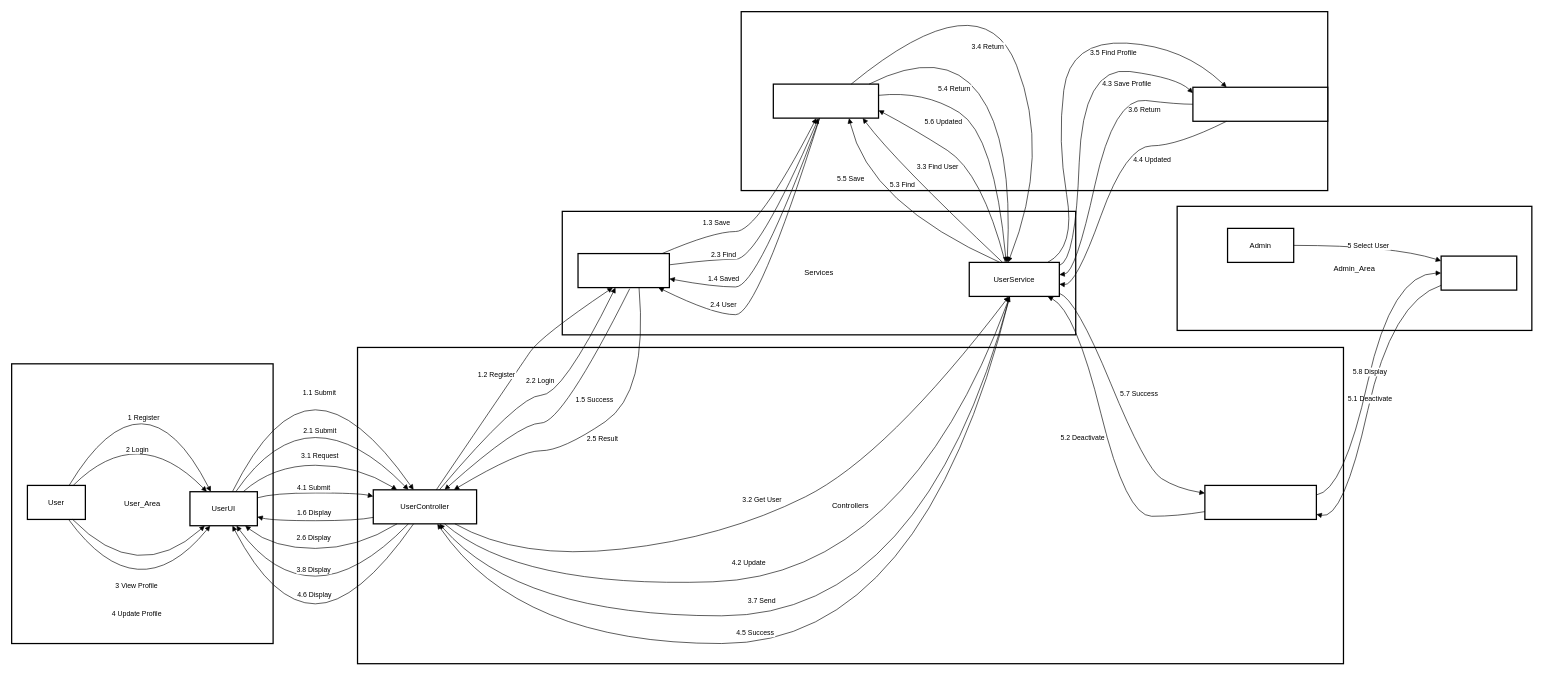
The diagram is 1543 pixels wide and 675 high, and some of its shapes have lost their labels. Each missing label, with the centre of its shape:
AdminController: the point at 1260,502
AdminUI: the point at 1478,272
AuthService: the point at 623,270
UserProfileRepository: the point at 1260,104
UserRepository: the point at 825,100
